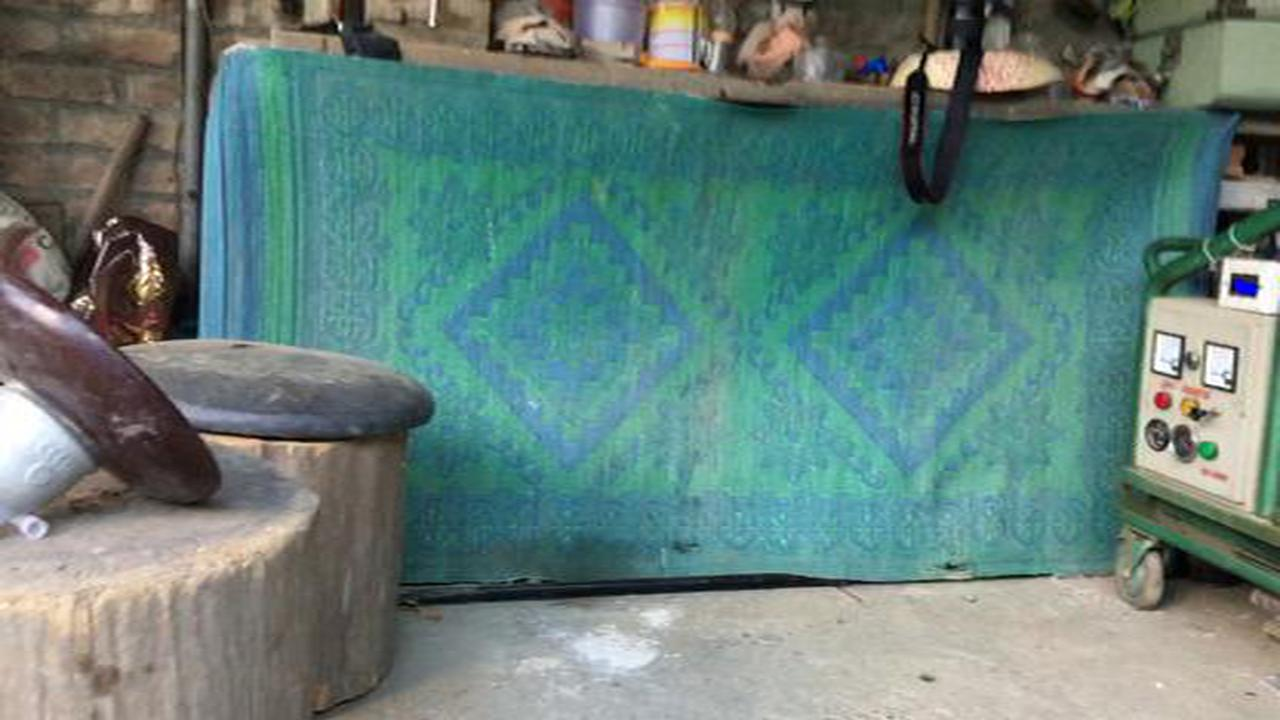insulator_disc: (7, 251, 227, 527)
